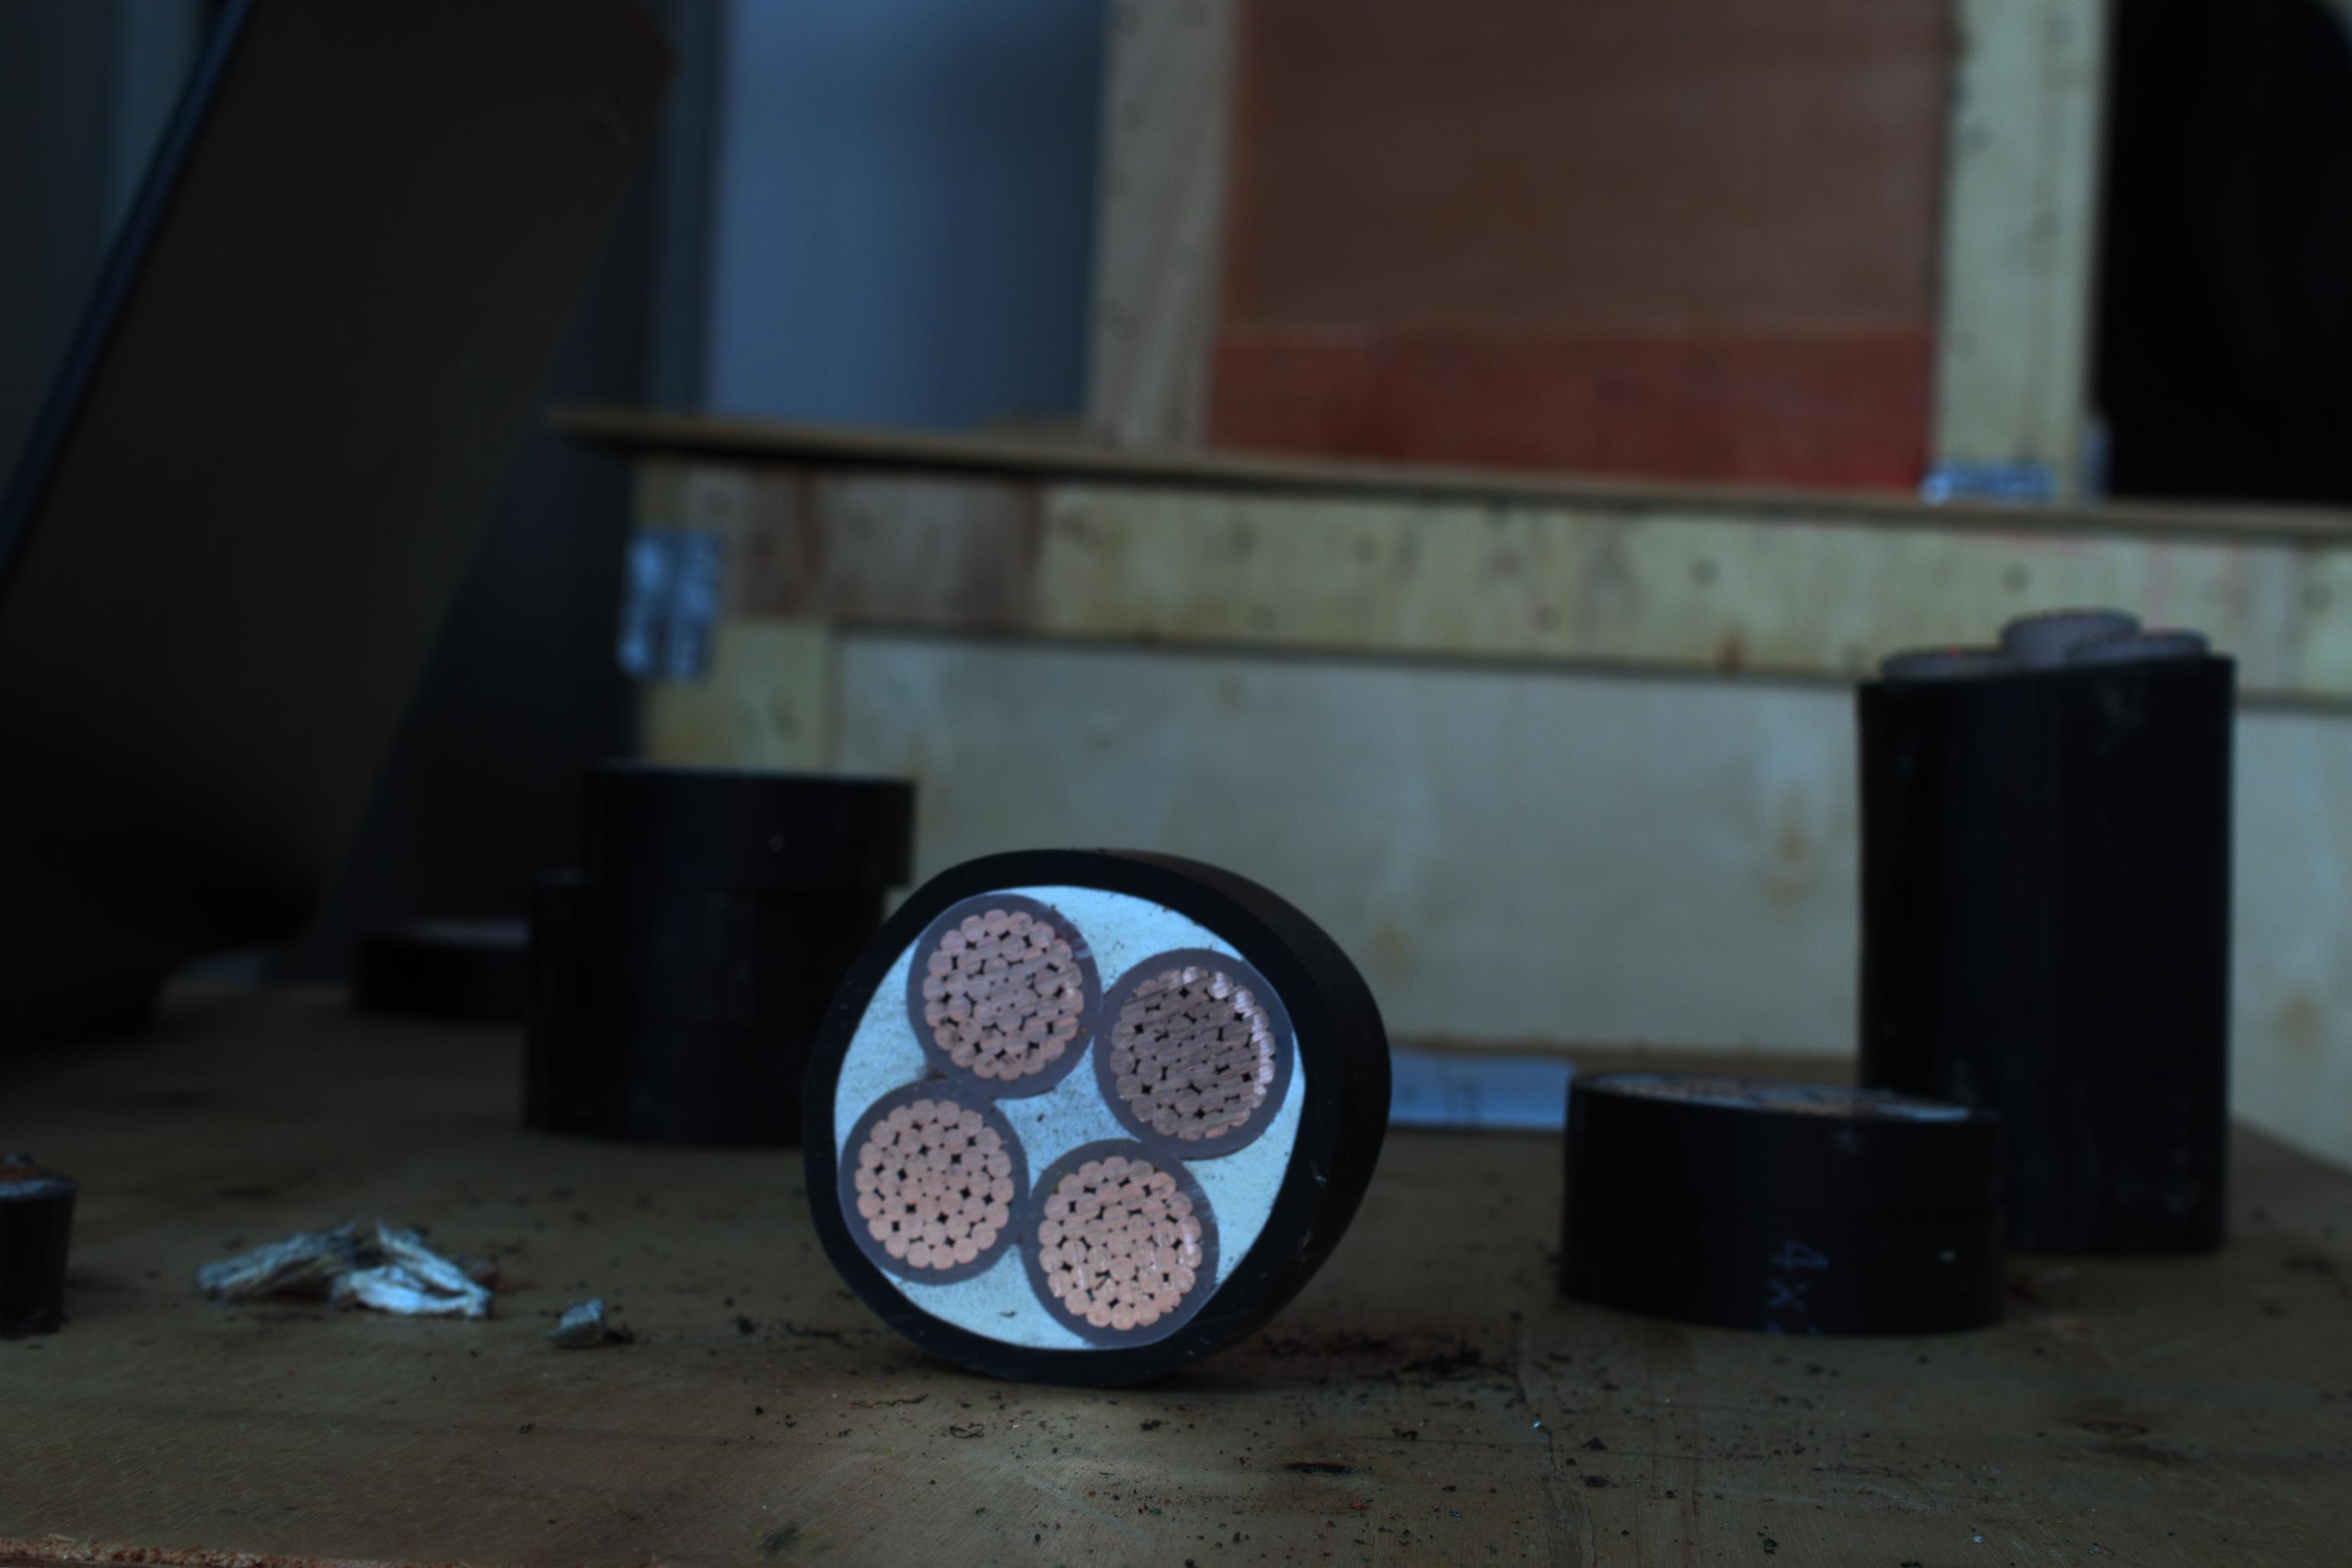YJV_0.6_1kV_4x240: (800, 854, 1312, 1354)
